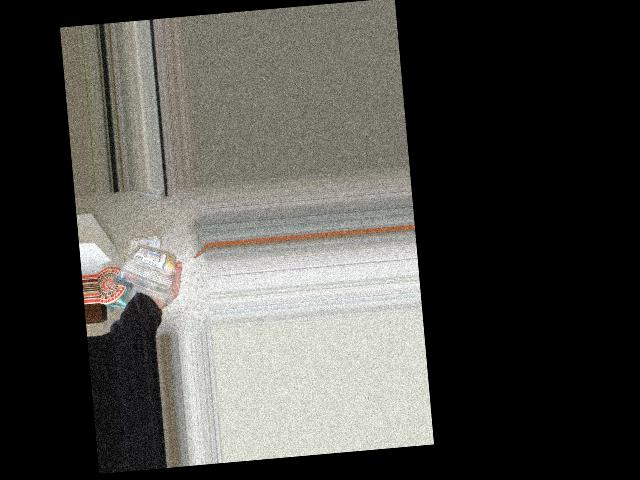cheese: (105, 229, 178, 309)
